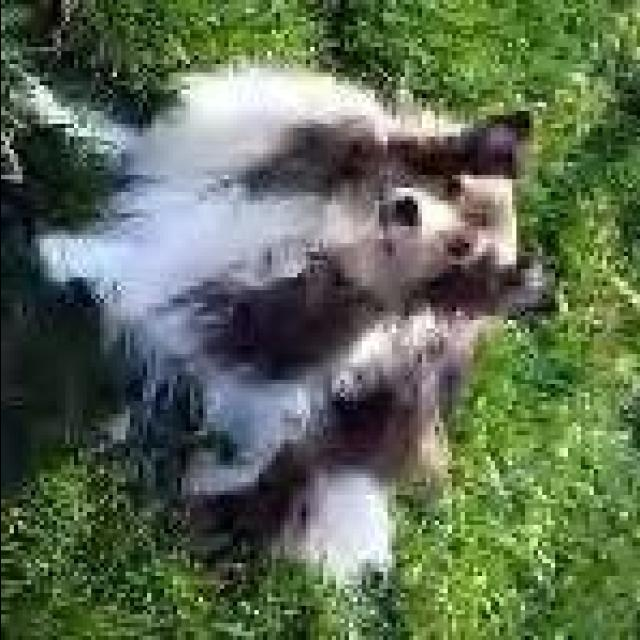dog: (31, 47, 573, 585)
